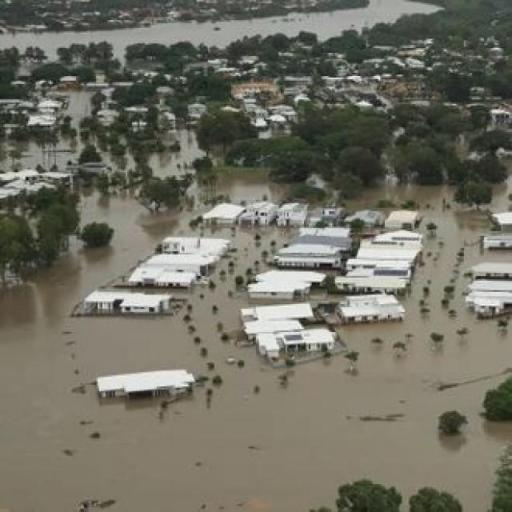flood: (0, 186, 512, 512), (0, 0, 440, 61), (0, 91, 137, 184), (189, 166, 289, 204), (145, 128, 208, 177), (341, 84, 396, 108), (490, 160, 512, 212), (361, 185, 401, 207), (258, 126, 292, 139), (409, 101, 430, 106)
house: (242, 304, 340, 352), (95, 365, 195, 405), (84, 290, 172, 319), (334, 292, 408, 324), (130, 264, 197, 290), (276, 244, 342, 270), (466, 290, 512, 318), (278, 202, 308, 226), (248, 201, 274, 225)
